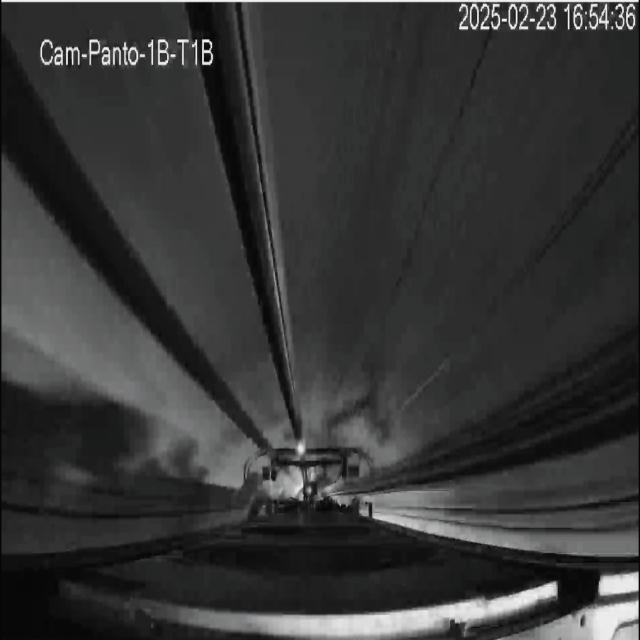Camera Stamp: (38, 33, 221, 70)
Date Stamp: (458, 3, 636, 33)
Sparks: (294, 439, 307, 461)
